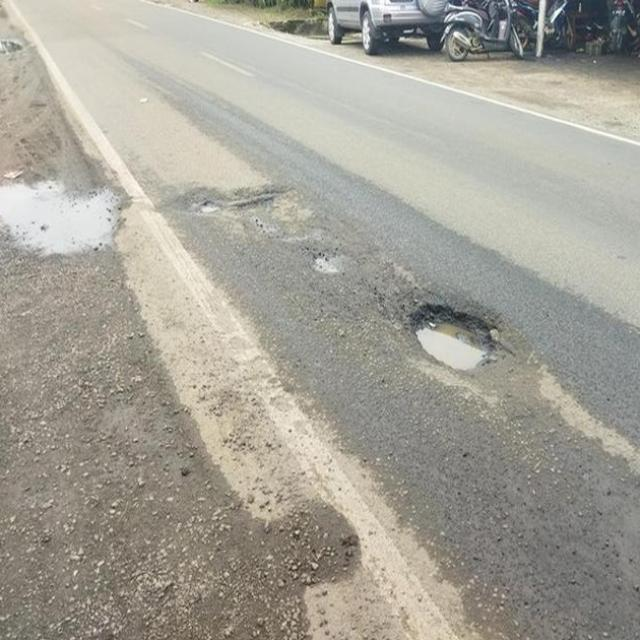Lubang: (417, 301, 494, 369)
